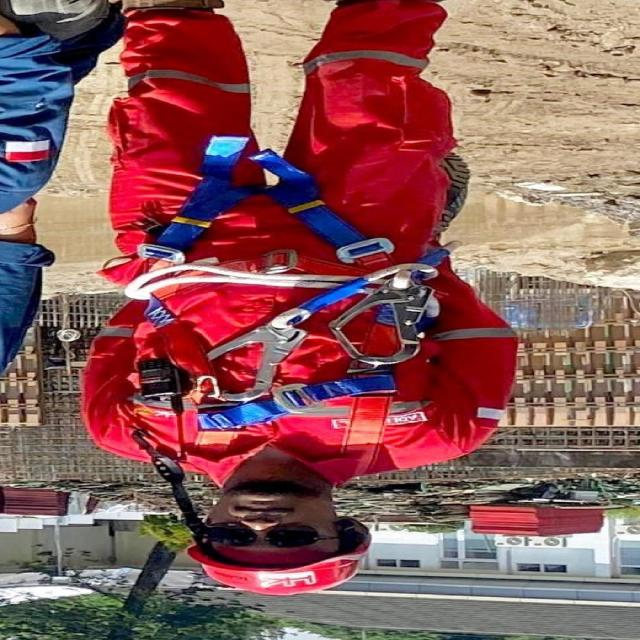safetyhelmet: (184, 482, 366, 594)
